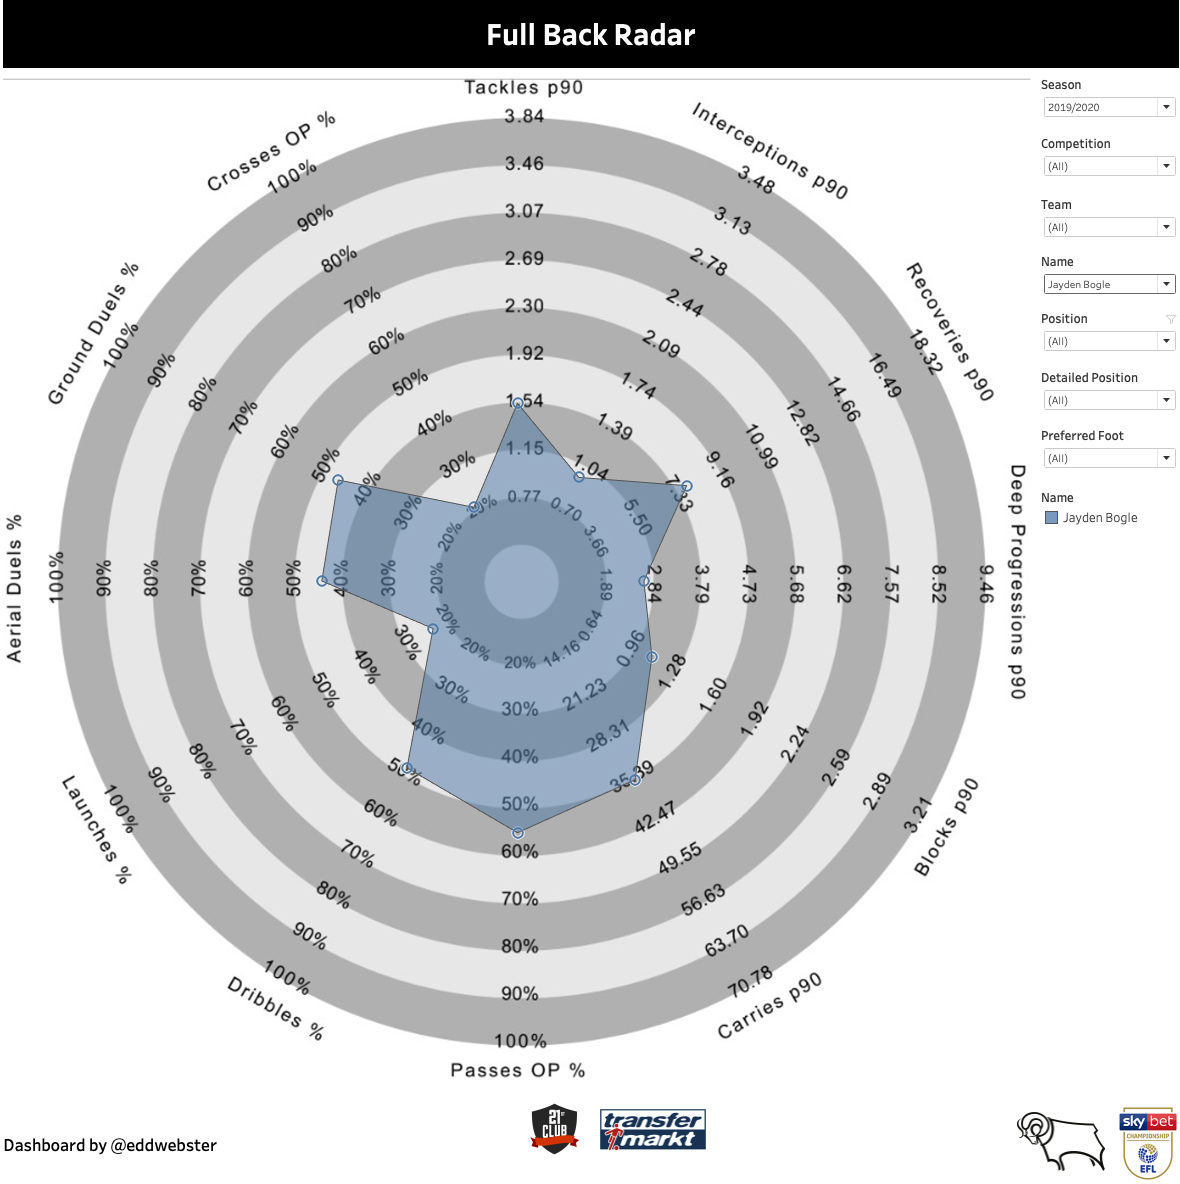

The dashboard page shown, as its layout file describes it:
{"tool":"tableau","page":{"name":"Fullback Radar Dashboard","canvas":[1200,1200],"ordinal":0},"visuals":[{"type":"worksheet","box":[0,0,1200,1200]},{"type":"worksheet","box":[8,8,1184,77]},{"type":"worksheet","param":"vert","box":[8,85,1038,1017.9]},{"type":"worksheet","param":"vert","box":[8,85,1038,1017.9]},{"type":"worksheet","title":"Radar - Full Back","mark":"Polygon","rows":["Calculation_2753106773627781158","Calculation_2753106773627781158"],"cols":["Calculation_2753106773627215909"],"box":[8,85,1038,1017.9]},{"type":"worksheet","param":"horz","box":[1046,85,146,59]},{"type":"worksheet","title":"Radar - Full Back","mark":"Polygon","rows":["Calculation_2753106773627781158","Calculation_2753106773627781158"],"cols":["Calculation_2753106773627215909"],"param":"[federated.0gxtw4z034jf9e17rtoao0zyka2y].[none:season:nk]","box":[1046,85,146,59]},{"type":"worksheet","title":"Radar - Full Back","mark":"Polygon","rows":["Calculation_2753106773627781158","Calculation_2753106773627781158"],"cols":["Calculation_2753106773627215909"],"param":"[federated.0gxtw4z034jf9e17rtoao0zyka2y].[none:competition:nk]","box":[1046,144,146,61]},{"type":"worksheet","title":"Radar - Full Back","mark":"Polygon","rows":["Calculation_2753106773627781158","Calculation_2753106773627781158"],"cols":["Calculation_2753106773627215909"],"param":"[federated.0gxtw4z034jf9e17rtoao0zyka2y].[none:team:nk]","box":[1046,205,146,57]},{"type":"worksheet","title":"Radar - Full Back","mark":"Polygon","rows":["Calculation_2753106773627781158","Calculation_2753106773627781158"],"cols":["Calculation_2753106773627215909"],"param":"[federated.0gxtw4z034jf9e17rtoao0zyka2y].[none:name:nk]","box":[1046,262,146,57]},{"type":"worksheet","title":"Radar - Full Back","mark":"Polygon","rows":["Calculation_2753106773627781158","Calculation_2753106773627781158"],"cols":["Calculation_2753106773627215909"],"param":"[federated.0gxtw4z034jf9e17rtoao0zyka2y].[none:position:nk]","box":[1046,319,146,59]},{"type":"worksheet","title":"Radar - Full Back","mark":"Polygon","rows":["Calculation_2753106773627781158","Calculation_2753106773627781158"],"cols":["Calculation_2753106773627215909"],"param":"[federated.0gxtw4z034jf9e17rtoao0zyka2y].[none:detailed_position:nk]","box":[1046,378,146,58]},{"type":"worksheet","title":"Radar - Full Back","mark":"Polygon","rows":["Calculation_2753106773627781158","Calculation_2753106773627781158"],"cols":["Calculation_2753106773627215909"],"param":"[federated.0gxtw4z034jf9e17rtoao0zyka2y].[none:preferred_foot:nk]","box":[1046,436,146,62]},{"type":"worksheet","title":"Radar - Full Back","mark":"Polygon","rows":["Calculation_2753106773627781158","Calculation_2753106773627781158"],"cols":["Calculation_2753106773627215909"],"param":"[federated.0gxtw4z034jf9e17rtoao0zyka2y].[none:name:nk]","box":[1046,498,146,443]},{"type":"worksheet","box":[1046,941,146,161.9]},{"type":"worksheet","box":[8,1102.9,1184,89.1]},{"type":"worksheet","param":"Image/21st_club.png","box":[533,1111.5,60,84]},{"type":"worksheet","box":[10,1119,227,78]},{"type":"worksheet","param":"Image/championship.png","box":[1127,1119,61,75]},{"type":"worksheet","param":"Image/transfermarkt-logo-banner.png","box":[608,1120.5,108,67.5]},{"type":"worksheet","param":"Image/derby_county_badge.png","box":[1026,1121,88,67]}]}

Visuals, with their boxes in screenshot pixels (x1, y1, x2, y2), scaled from the page's 1200x1200 canvas onto the 1180x1184 screenshot:
worksheet: bbox=[0, 0, 1179, 1183]
worksheet: bbox=[8, 8, 1172, 84]
worksheet: bbox=[8, 84, 1029, 1088]
worksheet: bbox=[8, 84, 1029, 1088]
"Radar - Full Back" worksheet (Polygon marks): bbox=[8, 84, 1029, 1088]
worksheet: bbox=[1029, 84, 1172, 142]
"Radar - Full Back" worksheet (Polygon marks): bbox=[1029, 84, 1172, 142]
"Radar - Full Back" worksheet (Polygon marks): bbox=[1029, 142, 1172, 202]
"Radar - Full Back" worksheet (Polygon marks): bbox=[1029, 202, 1172, 259]
"Radar - Full Back" worksheet (Polygon marks): bbox=[1029, 259, 1172, 315]
"Radar - Full Back" worksheet (Polygon marks): bbox=[1029, 315, 1172, 373]
"Radar - Full Back" worksheet (Polygon marks): bbox=[1029, 373, 1172, 430]
"Radar - Full Back" worksheet (Polygon marks): bbox=[1029, 430, 1172, 491]
"Radar - Full Back" worksheet (Polygon marks): bbox=[1029, 491, 1172, 928]
worksheet: bbox=[1029, 928, 1172, 1088]
worksheet: bbox=[8, 1088, 1172, 1176]
worksheet: bbox=[524, 1097, 583, 1180]
worksheet: bbox=[10, 1104, 233, 1181]
worksheet: bbox=[1108, 1104, 1168, 1178]
worksheet: bbox=[598, 1106, 704, 1172]
worksheet: bbox=[1009, 1106, 1095, 1172]
